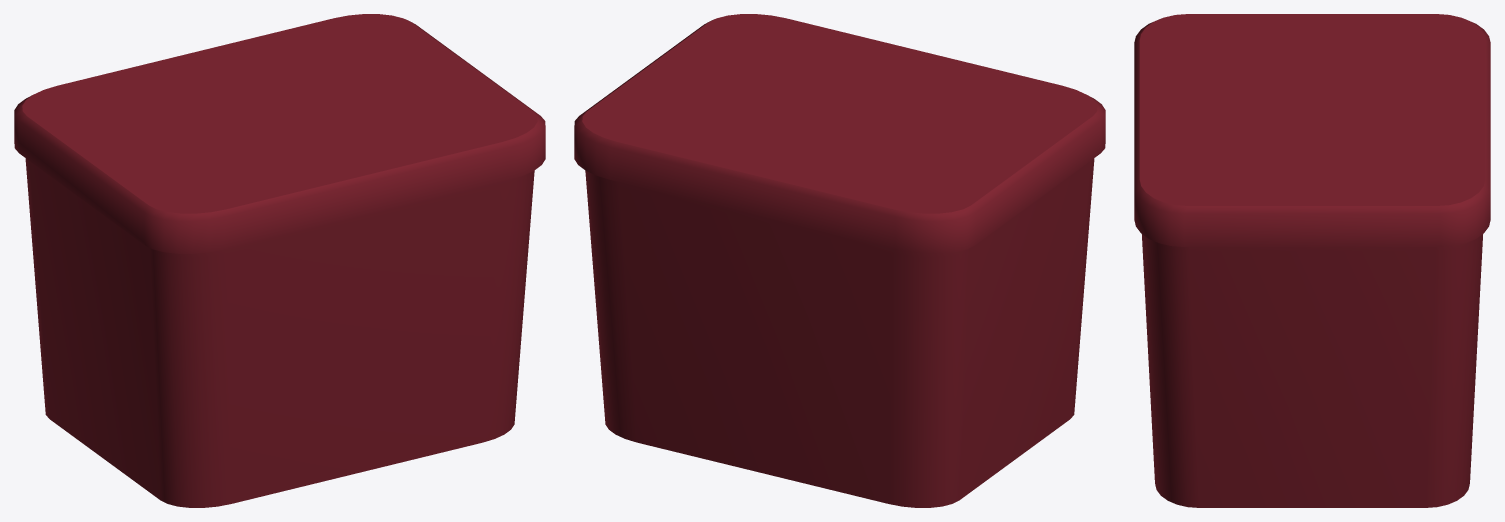
The model's file is item-kimchi_bin_12l.glb.
The picture shows the model from 3 angles, left to right: view 1: azimuth 30°, elevation 25°; view 2: azimuth 150°, elevation 25°; view 3: azimuth 270°, elevation 25°; orthographic projection. The views are drawn at different scales.
Parts seen in each view (by area): view 1: body, lid; view 2: body, lid; view 3: body, lid.
Boxes of the visible parts, x1,y1,x2,y2 form: body: (25,158,534,507); lid: (14,14,545,253); body: (585,158,1094,507); lid: (574,14,1105,253); body: (1142,234,1482,507); lid: (1134,14,1490,246).
Size of the model in its own units: 0.335 by 0.245 by 0.255.
